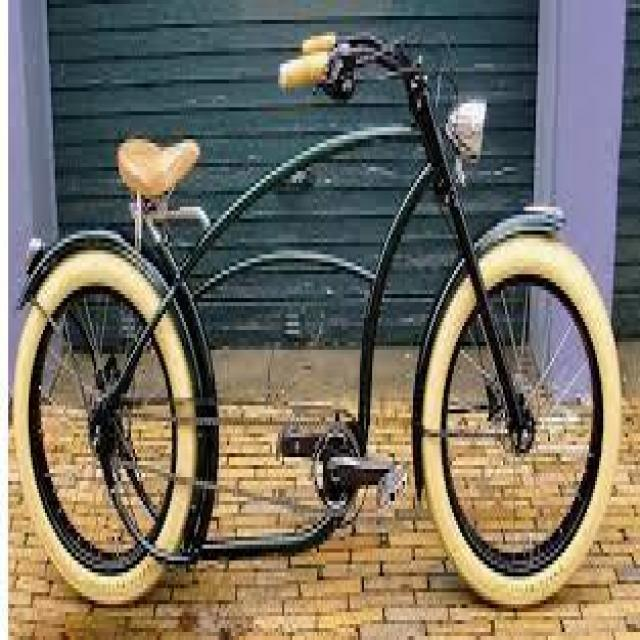bicycle: (20, 21, 625, 602)
